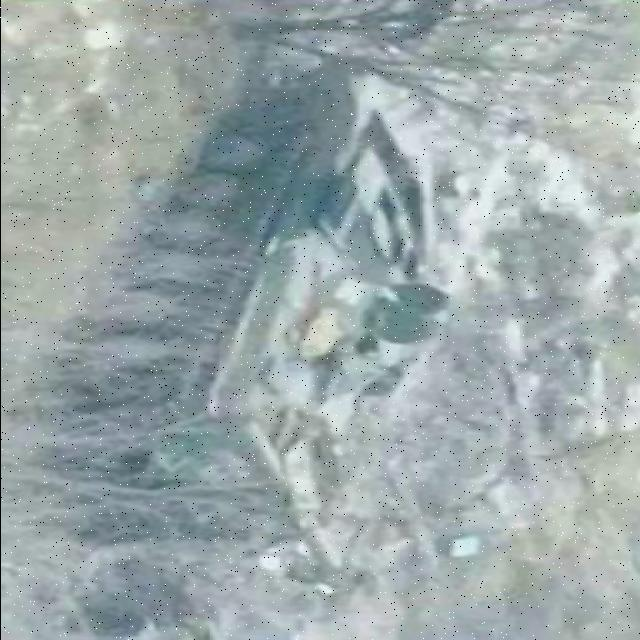APC-IFV: (98, 66, 446, 544)
